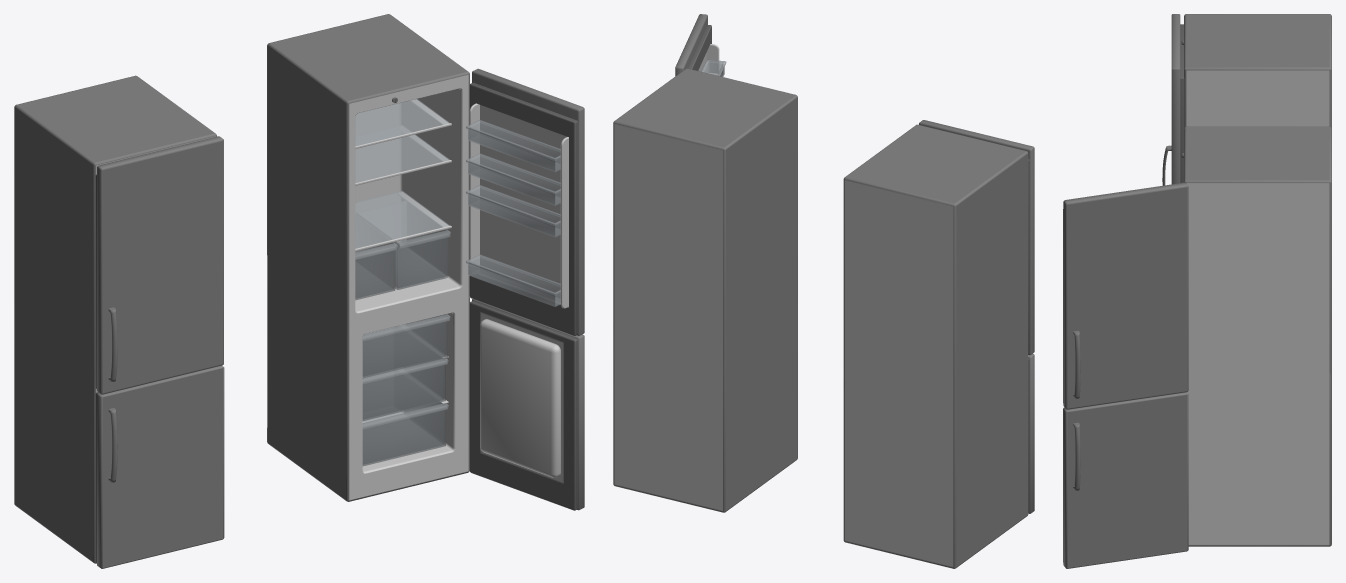
The model's file is fridge.gltf.
3 views of the same model, side by side, from view 1: azimuth 30°, elevation 25°; view 2: azimuth 150°, elevation 25°; view 3: azimuth 270°, elevation 25° (orthographic). The views are drawn at different scales.
Parts seen in each view (by area): view 1: refrigerator, refrigerator.001, door refrigerator.002, door refrigerator, door refrigerator.003, door refrigerator.001, box refrigerator.004, box refrigerator, box refrigerator.001, box refrigerator.002, box refrigerator.003; view 2: refrigerator.001, refrigerator, door refrigerator.002, door refrigerator, door refrigerator.003; view 3: refrigerator, door refrigerator, door refrigerator.001, refrigerator.001, door refrigerator.002, handle refrigerator.003, handle refrigerator.002.
Part boxes in pixels (<box>): refrigerator: <box>267,14,469,501</box>; refrigerator.001: <box>14,75,216,563</box>; door refrigerator.002: <box>95,136,223,394</box>; door refrigerator: <box>466,68,584,335</box>; door refrigerator.003: <box>95,365,224,568</box>; door refrigerator.001: <box>469,299,584,510</box>; box refrigerator.004: <box>357,201,450,289</box>; box refrigerator: <box>362,402,448,466</box>; box refrigerator.001: <box>362,314,450,378</box>; box refrigerator.002: <box>362,358,448,421</box>; box refrigerator.003: <box>355,215,397,300</box>; refrigerator.001: <box>843,124,1028,568</box>; refrigerator: <box>613,68,797,512</box>; door refrigerator.002: <box>919,120,1034,355</box>; door refrigerator: <box>675,14,726,76</box>; door refrigerator.003: <box>1028,353,1034,513</box>; refrigerator: <box>1181,126,1331,546</box>; door refrigerator: <box>1063,182,1188,409</box>; door refrigerator.001: <box>1063,392,1188,568</box>; refrigerator.001: <box>1181,14,1331,128</box>; door refrigerator.002: <box>1171,14,1184,184</box>; handle refrigerator.003: <box>1073,330,1080,398</box>; handle refrigerator.002: <box>1073,422,1080,490</box>.
Bounding box in the file's own units: 2.29 × 2.03 × 1.35.
Materials: 2 (1 with a texture image).
